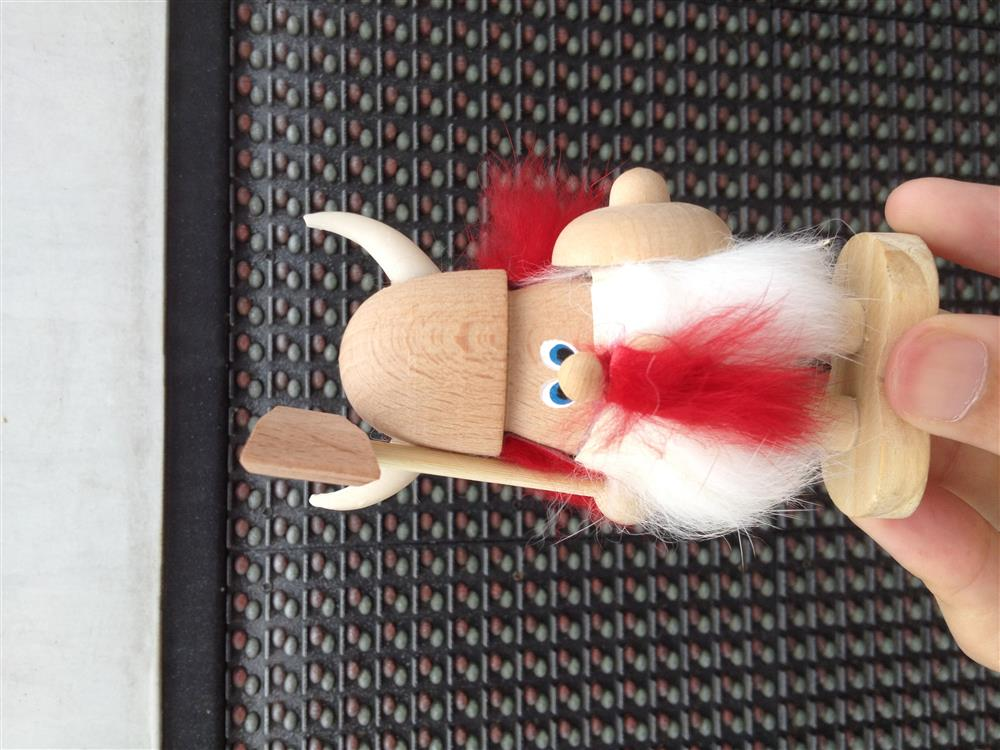dwarf: (232, 149, 936, 551)
